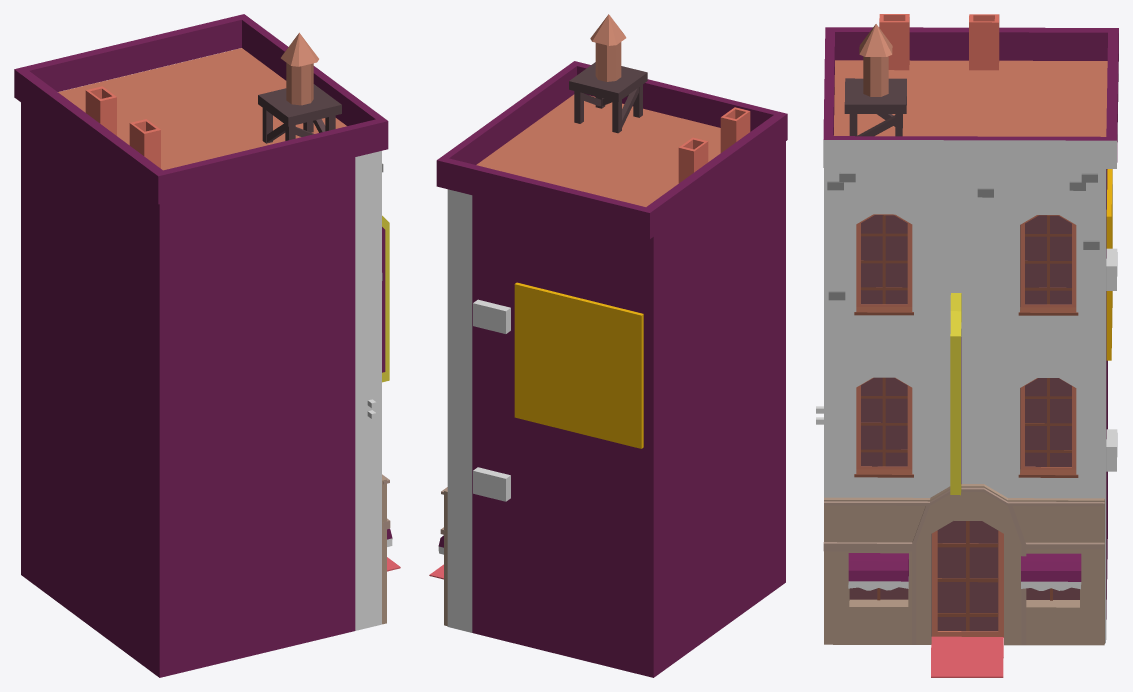
Rendered from Building_22_tran.glb.
The picture shows the model from 3 angles, left to right: view 1: azimuth 30°, elevation 25°; view 2: azimuth 150°, elevation 25°; view 3: azimuth 270°, elevation 25°; orthographic projection. The views are drawn at different scales.
Parts seen in each view (by area): view 1: Cube.2803, Plane.491, Cube.2785, Cube.2812, Cube.2797, Cube.2798; view 2: Cube.2803, Plane.491, Plane.483, Cube.2785, Cube.2825, Cube.2793, Cube.2797, Cube.2798; view 3: Cube.2803, Plane.491, Cube.2816, Cube.2785, Cube.2824, Cube.2821, Cube.2812, Cube.2818, Cube.2820, Cube.2814, Cube.2815, Cube.2819 (+6 smaller).
Boxes of the visible parts, box(x1,y1,x2,y2) form: Cube.2803: box(21, 48, 386, 677); Plane.491: box(14, 14, 388, 204); Cube.2785: box(258, 32, 341, 126); Cube.2812: box(382, 215, 389, 382); Cube.2797: box(85, 86, 116, 135); Cube.2798: box(129, 119, 160, 168); Cube.2803: box(444, 94, 785, 677); Plane.491: box(436, 61, 787, 239); Plane.483: box(514, 282, 643, 448); Cube.2785: box(569, 14, 647, 101); Cube.2825: box(473, 467, 510, 501); Cube.2793: box(473, 299, 510, 333); Cube.2797: box(678, 137, 708, 183); Cube.2798: box(720, 107, 750, 152); Cube.2803: box(824, 60, 1107, 645); Plane.491: box(823, 27, 1118, 168); Cube.2816: box(823, 487, 1104, 645); Cube.2785: box(844, 24, 906, 113); Cube.2824: box(931, 636, 1003, 677); Cube.2821: box(854, 214, 913, 315); Cube.2812: box(950, 293, 961, 495); Cube.2818: box(854, 377, 913, 477); Cube.2820: box(1018, 215, 1078, 315); Cube.2814: box(1021, 553, 1081, 590); Cube.2815: box(848, 553, 908, 590); Cube.2819: box(1018, 378, 1078, 477).
Size of the model in its own units: 0.2313 by 0.4395 by 0.2041.
